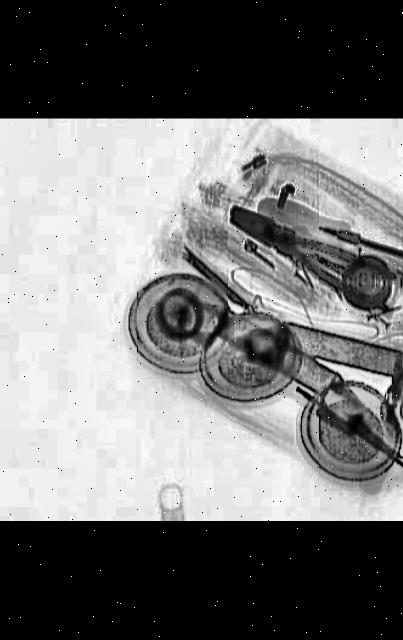Pliers: (211, 195, 403, 308)
